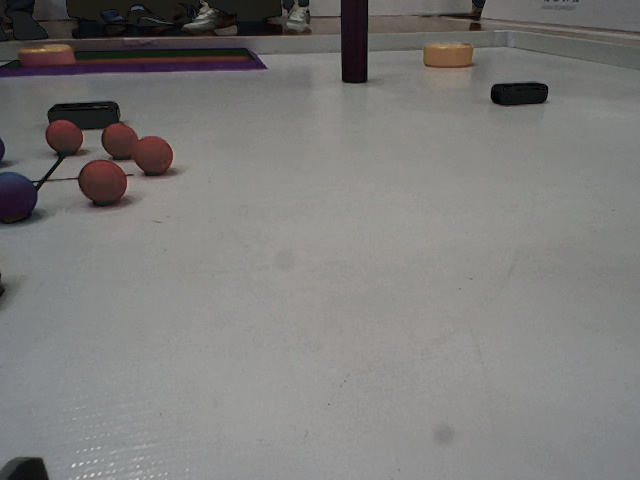black: (48, 98, 121, 132), (488, 76, 552, 110)
blue: (1, 175, 41, 222)
kuang: (1, 43, 268, 74)
red: (76, 160, 129, 206), (131, 136, 172, 175), (46, 118, 87, 157), (103, 123, 139, 158)
yellow: (19, 42, 77, 72), (422, 42, 479, 67)
zhuzi: (337, 1, 372, 87)
